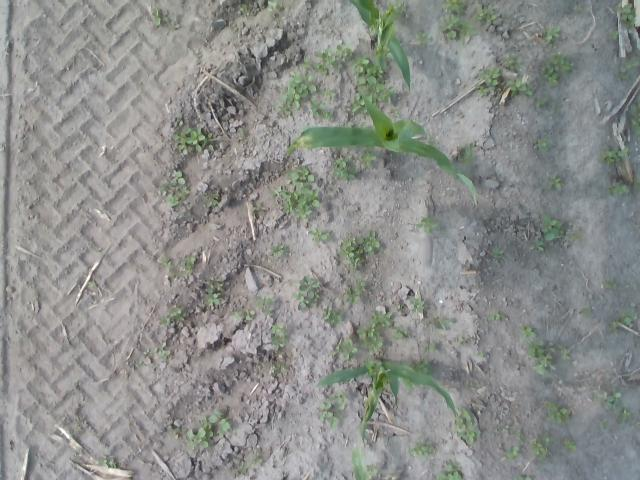Maize: (289, 92, 479, 208), (316, 359, 458, 448), (348, 1, 412, 92), (351, 447, 372, 480)
Weeds: (352, 56, 394, 114), (356, 310, 411, 353), (270, 184, 320, 220), (340, 229, 380, 270), (280, 74, 316, 114), (155, 170, 189, 206), (302, 47, 338, 75), (292, 276, 320, 309), (440, 14, 474, 40), (454, 408, 480, 442), (172, 128, 205, 154), (200, 410, 230, 438), (285, 167, 316, 188), (236, 451, 262, 476), (540, 214, 564, 240), (334, 154, 358, 180), (436, 458, 463, 480), (532, 433, 553, 461), (547, 402, 573, 424), (506, 79, 533, 98), (187, 428, 209, 450), (598, 391, 621, 412), (333, 339, 357, 359), (205, 282, 225, 306), (410, 438, 433, 458), (322, 306, 342, 327), (456, 143, 476, 163), (425, 316, 453, 330), (502, 52, 522, 70), (545, 172, 565, 190), (256, 295, 274, 315), (160, 255, 177, 276), (416, 218, 438, 234), (151, 9, 171, 26), (619, 310, 637, 328), (542, 68, 559, 87), (167, 307, 186, 324), (411, 360, 434, 374), (548, 54, 568, 70), (480, 68, 500, 84), (180, 256, 196, 276), (332, 390, 348, 410), (443, 0, 467, 12), (631, 102, 640, 134), (528, 340, 544, 358), (318, 402, 332, 422), (269, 362, 289, 376), (203, 192, 220, 208), (336, 44, 352, 61), (478, 8, 496, 23), (617, 4, 632, 22), (308, 229, 328, 242), (154, 343, 170, 359), (611, 180, 628, 195), (270, 244, 288, 258), (308, 98, 323, 114), (416, 30, 432, 45), (268, 337, 288, 349), (519, 324, 536, 338), (412, 296, 425, 314), (362, 150, 376, 166), (536, 137, 550, 152), (270, 323, 286, 336), (546, 25, 558, 42), (617, 146, 629, 162), (601, 150, 617, 162), (506, 446, 520, 459), (514, 429, 527, 442), (346, 289, 359, 302), (562, 438, 576, 450), (424, 342, 438, 354), (476, 84, 489, 96), (619, 410, 631, 423), (488, 313, 504, 322), (100, 459, 116, 468), (491, 248, 505, 258), (558, 346, 568, 360), (601, 280, 616, 289), (536, 96, 546, 108), (366, 464, 376, 476), (330, 416, 338, 430), (333, 408, 344, 418), (322, 89, 334, 98), (354, 280, 366, 289), (158, 316, 170, 325), (570, 229, 578, 242), (252, 203, 265, 211), (238, 128, 248, 138), (610, 321, 620, 331), (268, 1, 277, 12), (516, 474, 532, 480), (394, 3, 404, 12), (323, 111, 334, 119), (628, 15, 636, 26), (599, 419, 607, 430), (172, 426, 180, 437), (233, 312, 244, 320), (246, 310, 254, 320), (634, 176, 640, 188), (536, 241, 544, 250), (628, 61, 638, 68), (171, 22, 179, 30), (612, 31, 620, 39), (562, 64, 570, 72), (240, 3, 248, 11), (579, 308, 589, 314), (392, 109, 398, 117), (502, 424, 508, 432), (143, 349, 152, 354), (621, 71, 626, 79), (552, 105, 557, 113), (360, 123, 368, 127), (90, 282, 96, 287), (460, 336, 464, 342), (468, 387, 476, 390), (480, 352, 484, 357)
